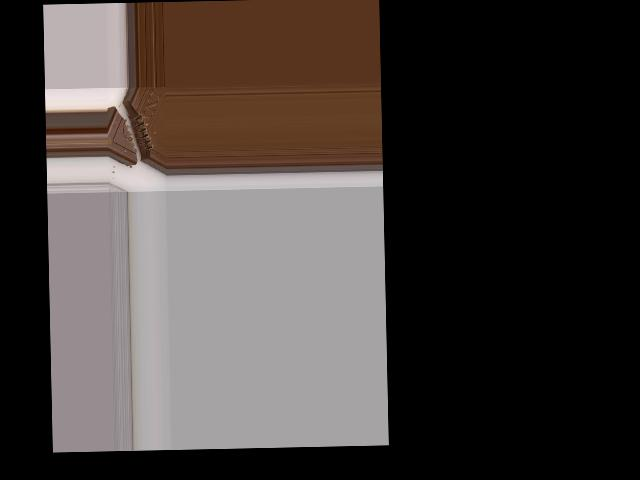chocolate: (106, 87, 165, 177)
